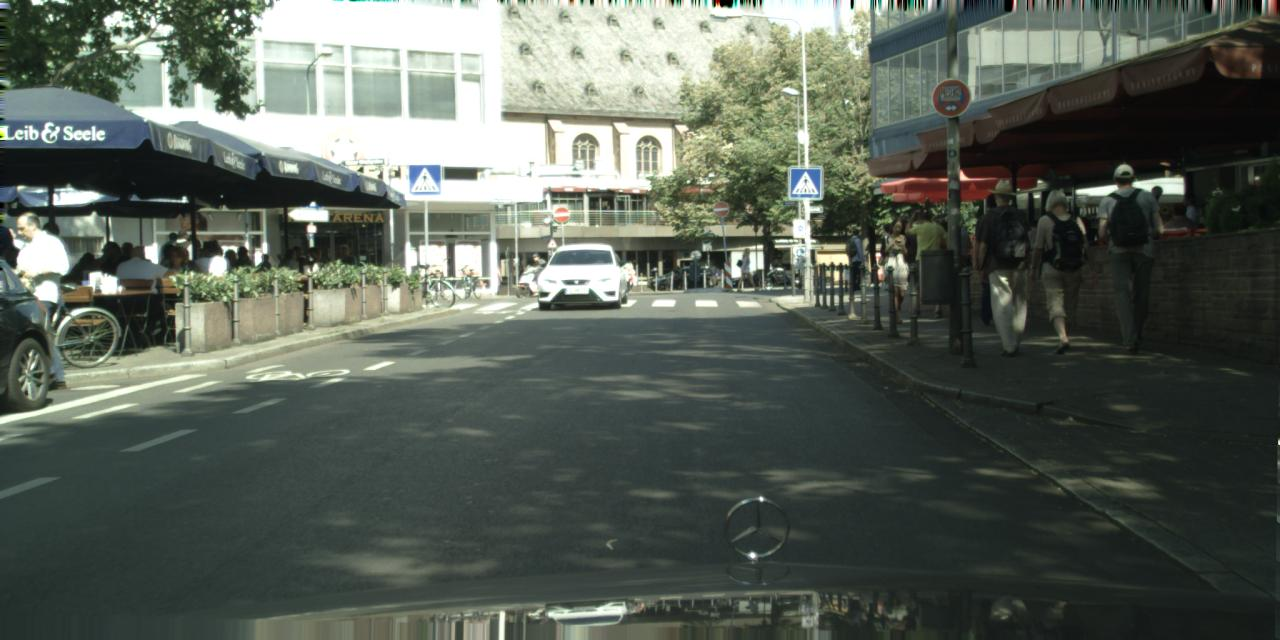ped: (62, 230, 270, 329), (1090, 163, 1168, 353), (0, 211, 73, 392), (972, 180, 1044, 358), (1026, 190, 1092, 353), (967, 193, 1021, 325), (20, 221, 72, 350), (876, 217, 919, 324), (901, 209, 944, 313), (277, 245, 327, 309), (1150, 185, 1200, 231), (844, 228, 868, 288), (902, 222, 919, 287), (737, 247, 755, 291), (529, 252, 547, 296), (877, 223, 892, 269), (339, 244, 357, 265), (964, 227, 972, 265), (936, 222, 948, 232), (942, 242, 948, 250), (885, 278, 888, 286), (908, 275, 910, 286), (314, 283, 318, 288)
